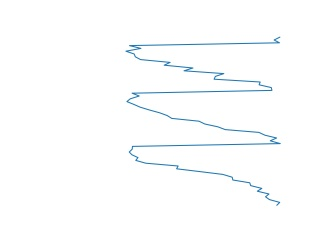distributaryMouthBar: (123, 36, 287, 207)
